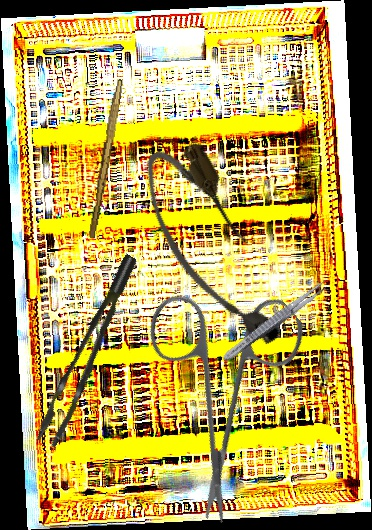Cannula: (128, 132, 295, 365)
Dressing Forceps: (220, 276, 331, 365)
Iris Scissors: (80, 242, 367, 528)
Scalpel Handle: (87, 78, 124, 239)
Tissue Forceps: (17, 253, 163, 450)
